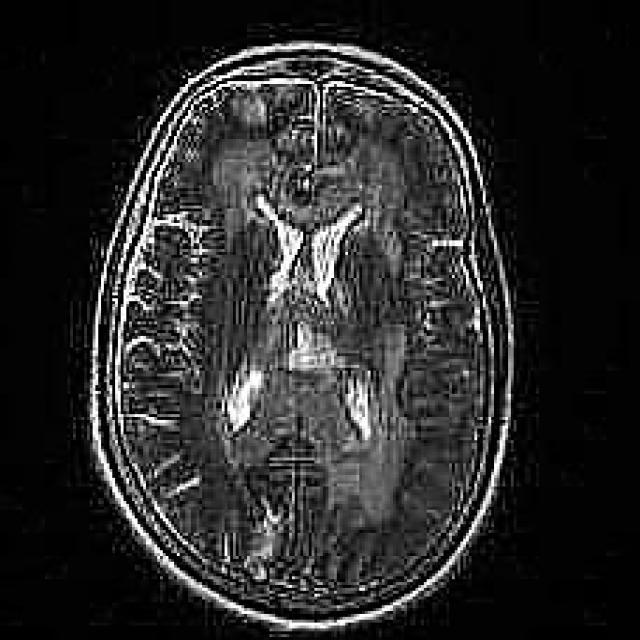notumor: (90, 41, 516, 631)
